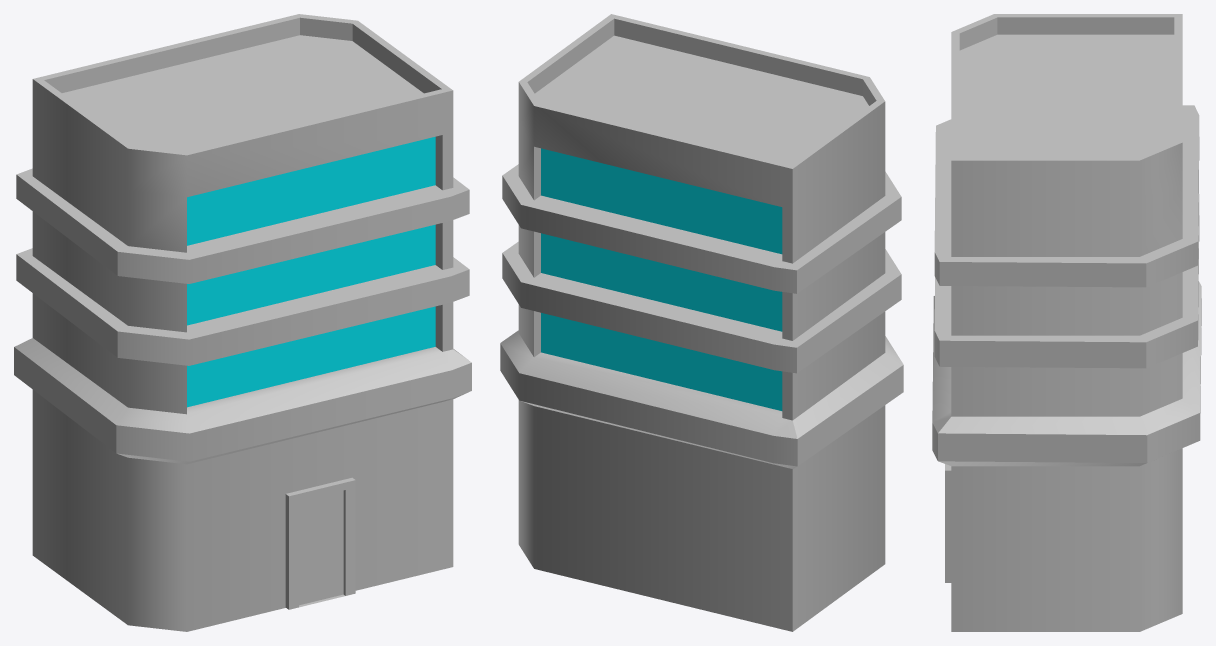
File: Building_7.FBX
The picture shows the model from 3 angles, left to right: view 1: azimuth 30°, elevation 25°; view 2: azimuth 150°, elevation 25°; view 3: azimuth 270°, elevation 25°; orthographic projection. The views are drawn at different scales.
Parts seen in each view (by area): view 1: Building 7; view 2: Building 7; view 3: Building 7.
Boxes of the visible parts, x1,y1,x2,y2 form: Building 7: (14, 14, 471, 631); Building 7: (500, 14, 903, 631); Building 7: (932, 14, 1201, 631).
Bounding box in the file's own units: 661 × 900 × 466.
